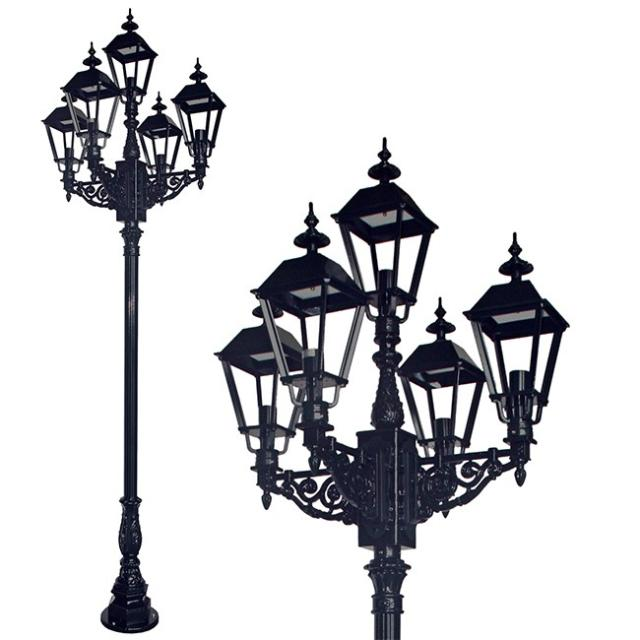Street-Lamp: (40, 10, 226, 636)
